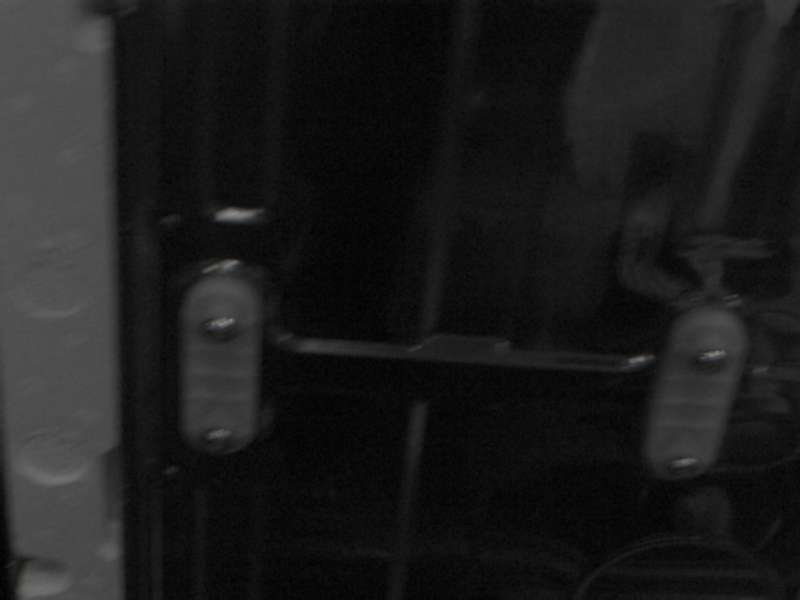screw: (202, 316, 238, 342), (201, 427, 235, 454), (666, 457, 702, 479), (694, 348, 728, 371)
